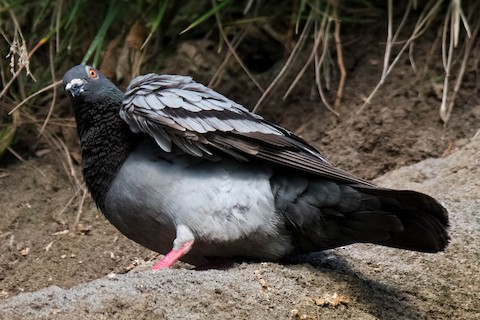pigeon: (53, 53, 459, 280)
